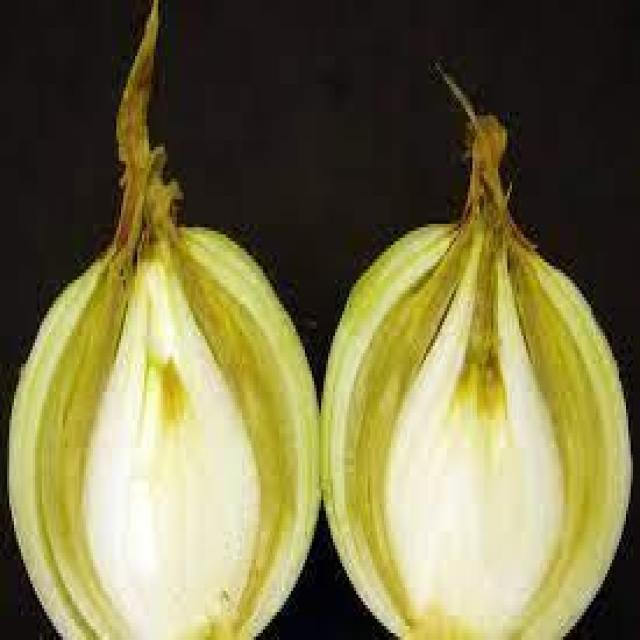Onion: (4, 7, 323, 640), (321, 63, 631, 640)
